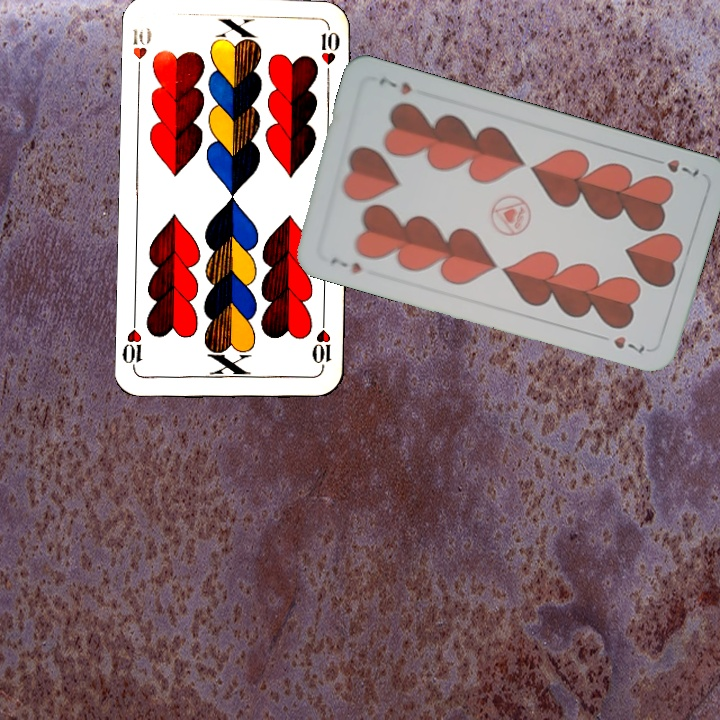H10: (308, 314, 334, 374), (129, 24, 154, 79)
H7: (645, 153, 702, 180), (326, 252, 365, 277)
